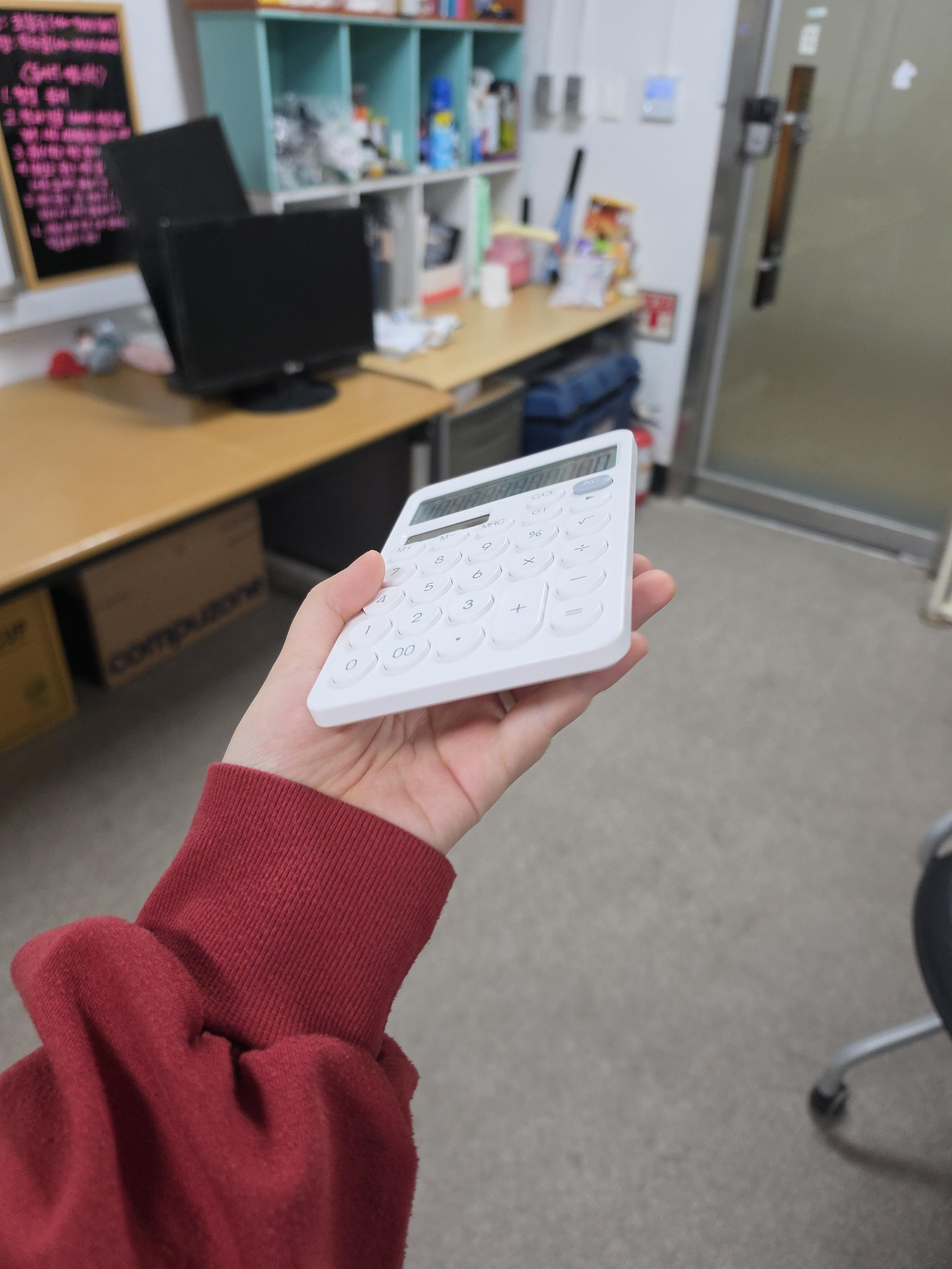calculator: (307, 428, 638, 728)
